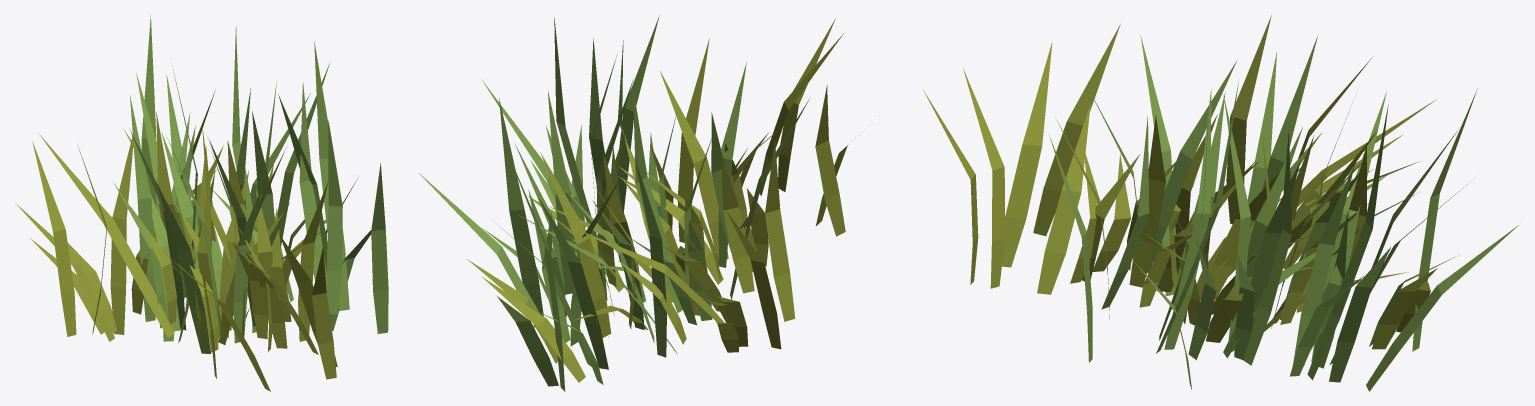
File: grass.glb
The picture shows the model from 3 angles, left to right: view 1: azimuth 30°, elevation 25°; view 2: azimuth 150°, elevation 25°; view 3: azimuth 270°, elevation 25°; orthographic projection. The views are drawn at different scales.
Parts seen in each view (by area): view 1: Floor|Gras 2|Dupli|61_Material.003_0, Floor|Gras 4|Dupli|39_Material.005_0; view 2: Floor|Gras 2|Dupli|61_Material.003_0, Floor|Gras 4|Dupli|39_Material.005_0; view 3: Floor|Gras 2|Dupli|61_Material.003_0, Floor|Gras 4|Dupli|39_Material.005_0.
Boxes of the visible parts, left/top/right/bottom form: Floor|Gras 2|Dupli|61_Material.003_0: left=113, top=15, right=388, bottom=353; Floor|Gras 4|Dupli|39_Material.005_0: left=15, top=90, right=337, bottom=391; Floor|Gras 2|Dupli|61_Material.003_0: left=419, top=15, right=809, bottom=391; Floor|Gras 4|Dupli|39_Material.005_0: left=467, top=18, right=858, bottom=382; Floor|Gras 2|Dupli|61_Material.003_0: left=1049, top=35, right=1518, bottom=391; Floor|Gras 4|Dupli|39_Material.005_0: left=923, top=15, right=1437, bottom=349.
Size of the model in its own units: 3.58 by 3.35 by 5.31.
